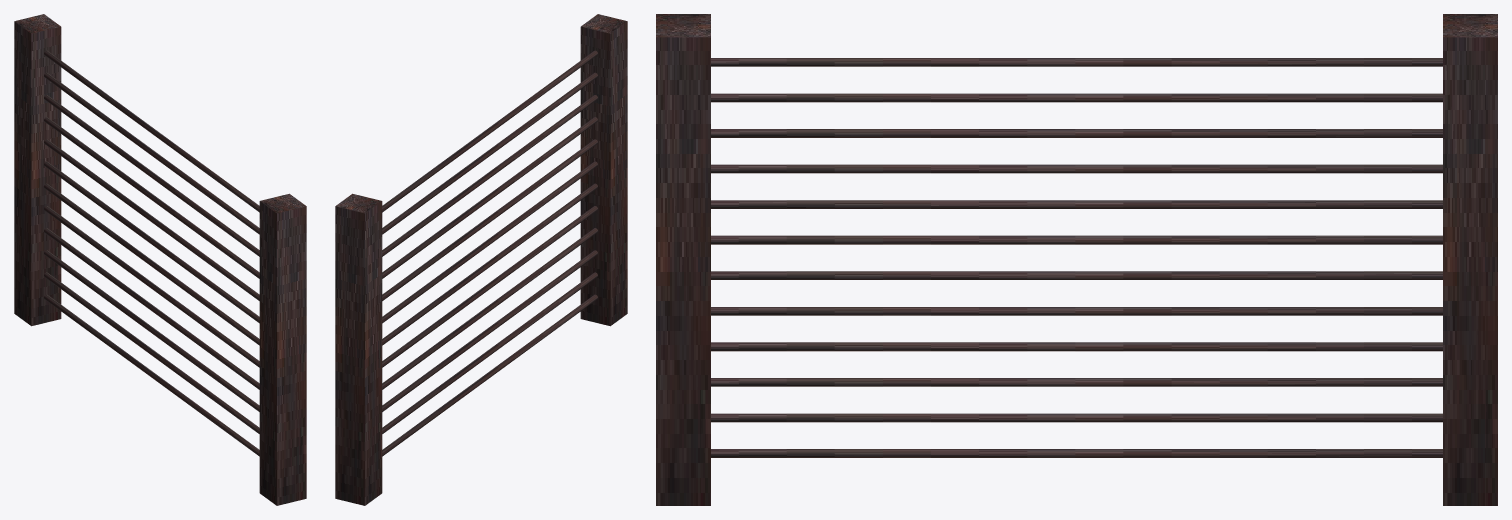
Rendered from fencefbx.fbx.
3 renders of one model, left to right at view 1: azimuth 30°, elevation 25°; view 2: azimuth 150°, elevation 25°; view 3: azimuth 270°, elevation 25°, orthographic. The views are drawn at different scales.
Parts seen in each view (by area): view 1: Cube, Cube.001, Cylinder.001, Cylinder.005, Cylinder.008, Cylinder.011, Cylinder, Cylinder.002, Cylinder.004, Cylinder.009, Cylinder.010, Cylinder.003 (+2 smaller); view 2: Cube.001, Cube, Cylinder.001, Cylinder.005, Cylinder.008, Cylinder.011, Cylinder, Cylinder.002, Cylinder.004, Cylinder.009, Cylinder.010, Cylinder.003 (+2 smaller); view 3: Cube, Cube.001, Cylinder.001, Cylinder.003, Cylinder.005, Cylinder.008, Cylinder.010, Cylinder, Cylinder.002, Cylinder.004, Cylinder.006, Cylinder.007 (+2 smaller).
Part boxes in pixels (left/top/right/bottom): Cube: left=259, top=193, right=306, bottom=505; Cube.001: left=14, top=14, right=61, bottom=326; Cylinder.001: left=44, top=72, right=259, bottom=234; Cylinder.005: left=44, top=161, right=259, bottom=323; Cylinder.008: left=44, top=228, right=259, bottom=389; Cylinder.011: left=44, top=294, right=259, bottom=456; Cylinder: left=44, top=50, right=259, bottom=212; Cylinder.002: left=44, top=95, right=259, bottom=256; Cylinder.004: left=44, top=139, right=259, bottom=300; Cylinder.009: left=44, top=250, right=259, bottom=411; Cylinder.010: left=44, top=272, right=259, bottom=433; Cylinder.003: left=44, top=117, right=259, bottom=278; Cube.001: left=335, top=193, right=382, bottom=505; Cube: left=580, top=14, right=627, bottom=326; Cylinder.001: left=382, top=72, right=597, bottom=234; Cylinder.005: left=382, top=161, right=597, bottom=323; Cylinder.008: left=382, top=228, right=597, bottom=389; Cylinder.011: left=382, top=294, right=597, bottom=456; Cylinder: left=382, top=50, right=597, bottom=212; Cylinder.002: left=382, top=95, right=597, bottom=256; Cylinder.004: left=382, top=139, right=597, bottom=300; Cylinder.009: left=382, top=250, right=597, bottom=411; Cylinder.010: left=382, top=272, right=597, bottom=433; Cylinder.003: left=382, top=117, right=597, bottom=278; Cube: left=656, top=14, right=710, bottom=505; Cube.001: left=1443, top=14, right=1497, bottom=505; Cylinder.001: left=711, top=93, right=1442, bottom=102; Cylinder.003: left=711, top=164, right=1442, bottom=173; Cylinder.005: left=711, top=235, right=1442, bottom=244; Cylinder.008: left=711, top=342, right=1442, bottom=351; Cylinder.010: left=711, top=413, right=1442, bottom=422; Cylinder: left=711, top=58, right=1442, bottom=66; Cylinder.002: left=711, top=129, right=1442, bottom=137; Cylinder.004: left=711, top=200, right=1442, bottom=208; Cylinder.006: left=711, top=271, right=1442, bottom=279; Cylinder.007: left=711, top=307, right=1442, bottom=315.
Size of the model in its own units: 21.25 by 200 by 325.
1 material, 1 textured.
